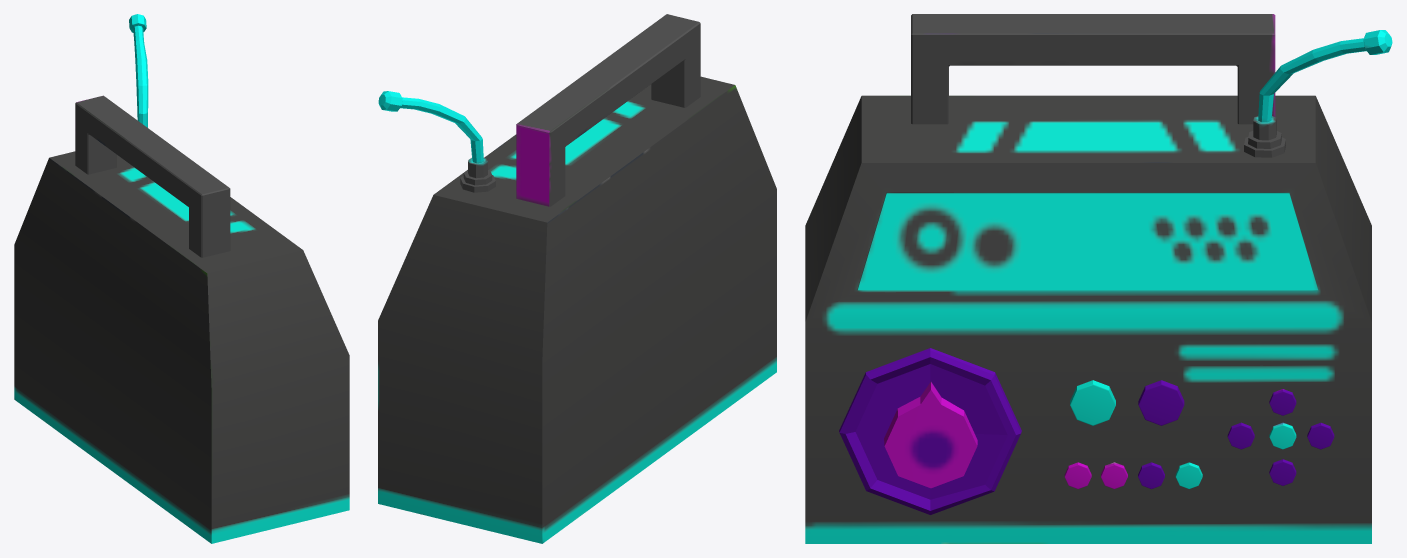
Rendered from SM_Radio.fbx.
3 views of the same model, side by side, from view 1: azimuth 30°, elevation 25°; view 2: azimuth 150°, elevation 25°; view 3: azimuth 270°, elevation 25° (orthographic). The views are drawn at different scales.
Visible parts, largest first — view 1: SM_Radio; view 2: SM_Radio; view 3: SM_Radio.
Part boxes in pixels (x1,y1,x2,y2): SM_Radio: (14,14,349,543); SM_Radio: (378,14,776,543); SM_Radio: (805,14,1392,543).
Bounding box in the file's own units: 10.65 × 25.02 × 23.78.
Materials: 1 (1 with a texture image).
